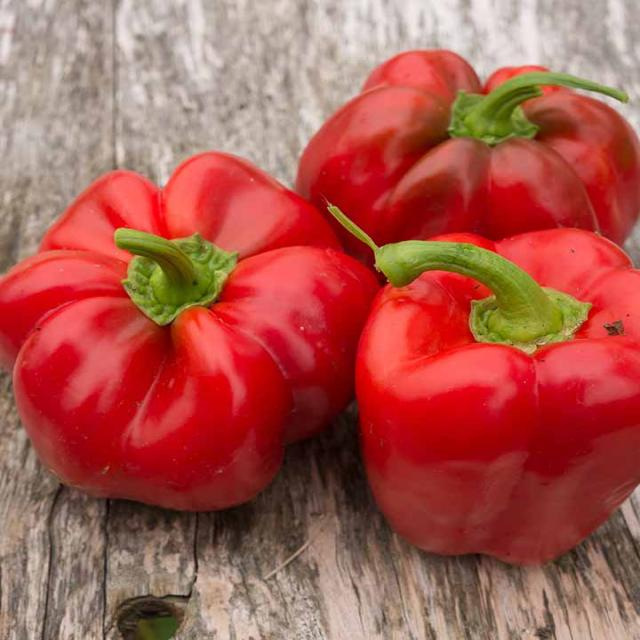Bell pepper: (25, 138, 342, 540), (331, 192, 640, 586)
